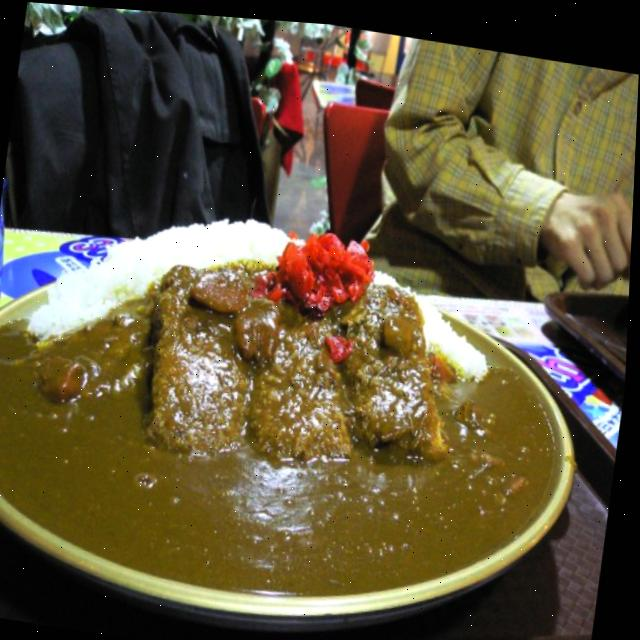猪肉菜式: (0, 149, 612, 640)
